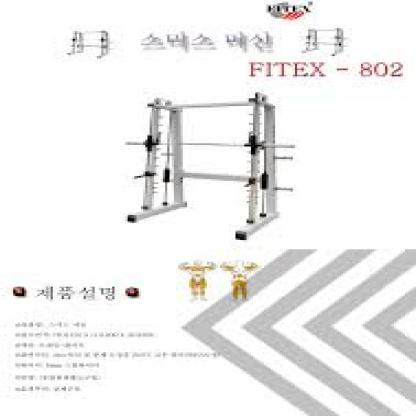smith machine: (125, 91, 296, 241)
